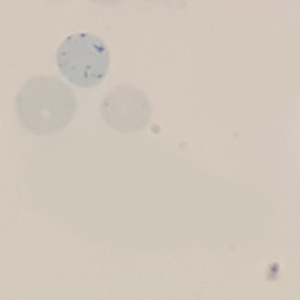aggregate reticulocyte: (53, 31, 111, 90)
erythrocyte: (13, 73, 78, 138)
punctate reticulocyte: (98, 83, 152, 137)
